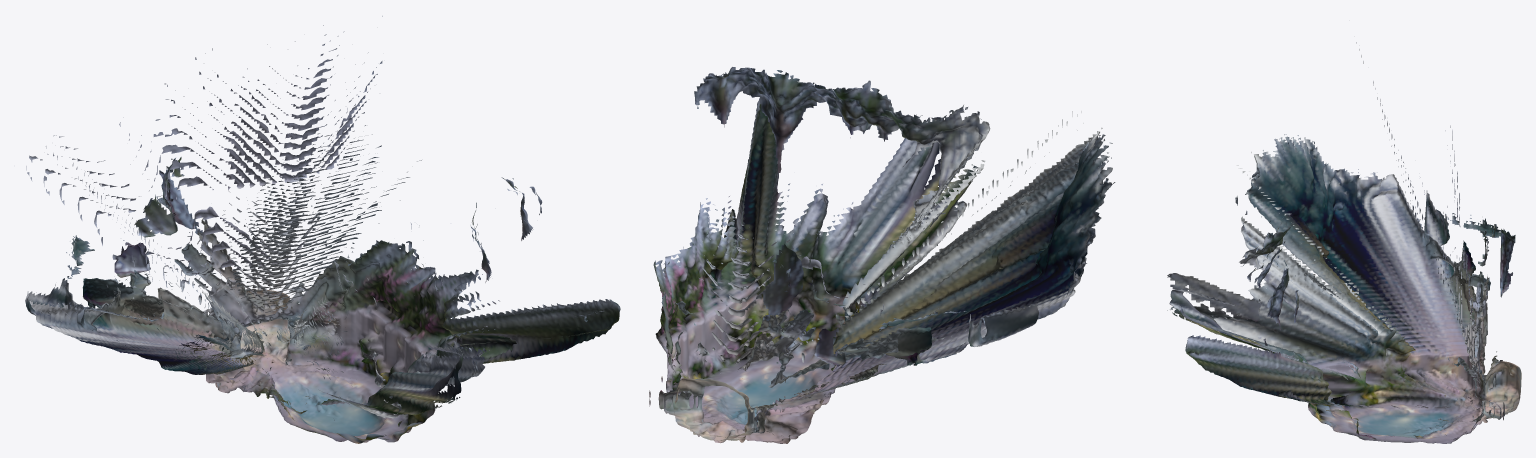
File: moonlit-mermaid-patio-1-1-pano_collider.glb
3 views of the same model, side by side, from view 1: azimuth 30°, elevation 25°; view 2: azimuth 150°, elevation 25°; view 3: azimuth 270°, elevation 25° (orthographic). The views are drawn at different scales.
Visible parts, largest first — view 1: world; view 2: world; view 3: world.
Boxes of the visible parts, box(x1,y1,x2,y2) form: world: box(25, 16, 620, 443); world: box(649, 67, 1115, 443); world: box(1167, 42, 1521, 443).
Size of the model in its own units: 34.34 by 27.4 by 29.79.
